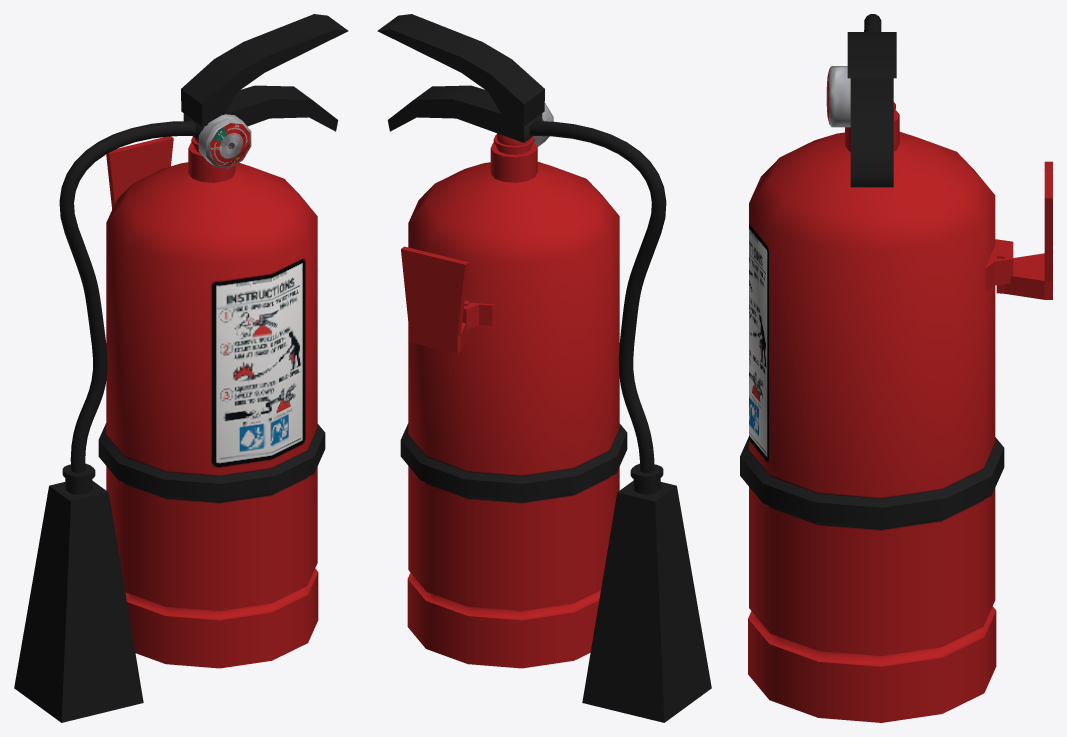
Rendered from extintor.fbx.
3 views of the same model, side by side, from view 1: azimuth 30°, elevation 25°; view 2: azimuth 150°, elevation 25°; view 3: azimuth 270°, elevation 25° (orthographic). The views are drawn at different scales.
Visible parts, largest first — view 1: Cylinder, Cube.001, Cube, BézierCurve, Cube.006, Cylinder.001; view 2: Cylinder, Cube.001, Cube, BézierCurve, Cube.006, Cube.005; view 3: Cylinder, Cube, Cube.006, Cylinder.001, Cube.005.
Boxes of the visible parts, <box> form: Cylinder: <box>98,136,325,668</box>; Cube.001: <box>14,463,143,722</box>; Cube: <box>181,14,348,140</box>; BézierCurve: <box>59,121,196,472</box>; Cube.006: <box>106,136,173,209</box>; Cylinder.001: <box>198,114,251,168</box>; Cylinder: <box>400,133,627,668</box>; Cube.001: <box>582,463,711,722</box>; Cube: <box>377,14,544,142</box>; BézierCurve: <box>529,121,666,472</box>; Cube.006: <box>401,246,469,353</box>; Cube.005: <box>462,302,495,329</box>; Cylinder: <box>740,102,1004,722</box>; Cube: <box>847,32,896,187</box>; Cube.006: <box>996,161,1052,299</box>; Cylinder.001: <box>826,66,850,127</box>; Cube.005: <box>985,239,1013,291</box>.
Size of the model in its own units: 325 by 635 by 251.
